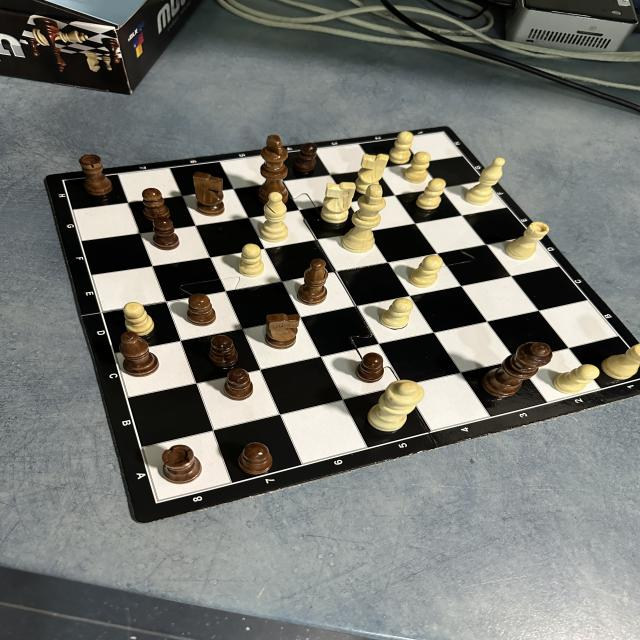Black-Bishop: (119, 331, 160, 377), (298, 258, 330, 306)
Black-King: (260, 134, 289, 204)
Black-Knight: (192, 171, 225, 217), (264, 313, 300, 349)
Black-Pawn: (141, 188, 171, 222), (186, 293, 216, 327), (152, 216, 180, 251), (208, 335, 238, 367), (224, 368, 254, 400), (356, 352, 384, 383), (293, 143, 317, 172)
Black-Queen: (482, 342, 553, 398)
Black-Rook: (161, 444, 203, 484), (78, 154, 114, 196)
White-Bishop: (465, 157, 506, 206), (259, 192, 289, 242)
White-King: (342, 184, 386, 254)
White-Knight: (319, 181, 356, 224), (356, 153, 389, 195)
White-Pawn: (554, 364, 600, 394), (408, 255, 443, 288), (238, 442, 273, 475), (123, 302, 155, 336), (380, 298, 414, 330), (415, 178, 447, 210), (238, 243, 265, 277), (403, 152, 431, 184), (388, 132, 414, 164)
White-Queen: (367, 379, 425, 432)
White-Rook: (505, 222, 550, 260), (600, 343, 640, 379)
